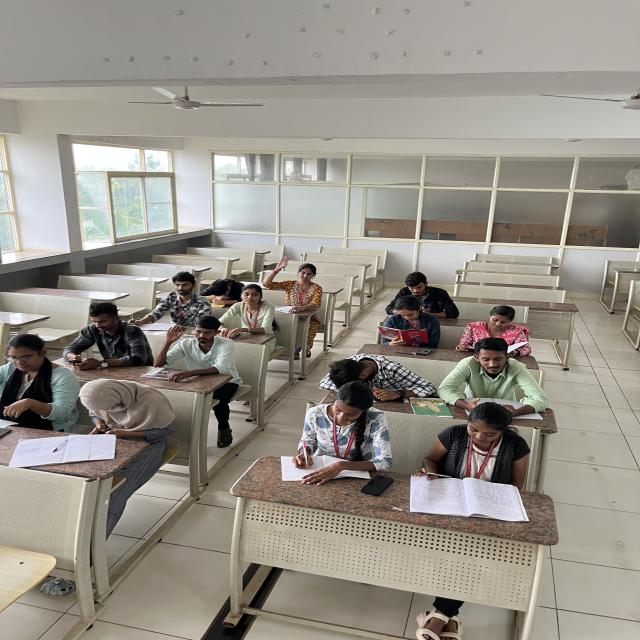Hand Rising: (152, 317, 235, 380), (263, 253, 324, 310)
Reading: (450, 338, 553, 411), (455, 303, 535, 358), (369, 295, 439, 349)
Sleeping: (319, 350, 412, 393), (198, 272, 246, 310)
Using Phone: (0, 330, 69, 435), (73, 374, 174, 440), (59, 299, 146, 373), (395, 268, 461, 317)
Writing: (414, 403, 526, 502), (283, 380, 392, 475), (134, 264, 210, 327)
